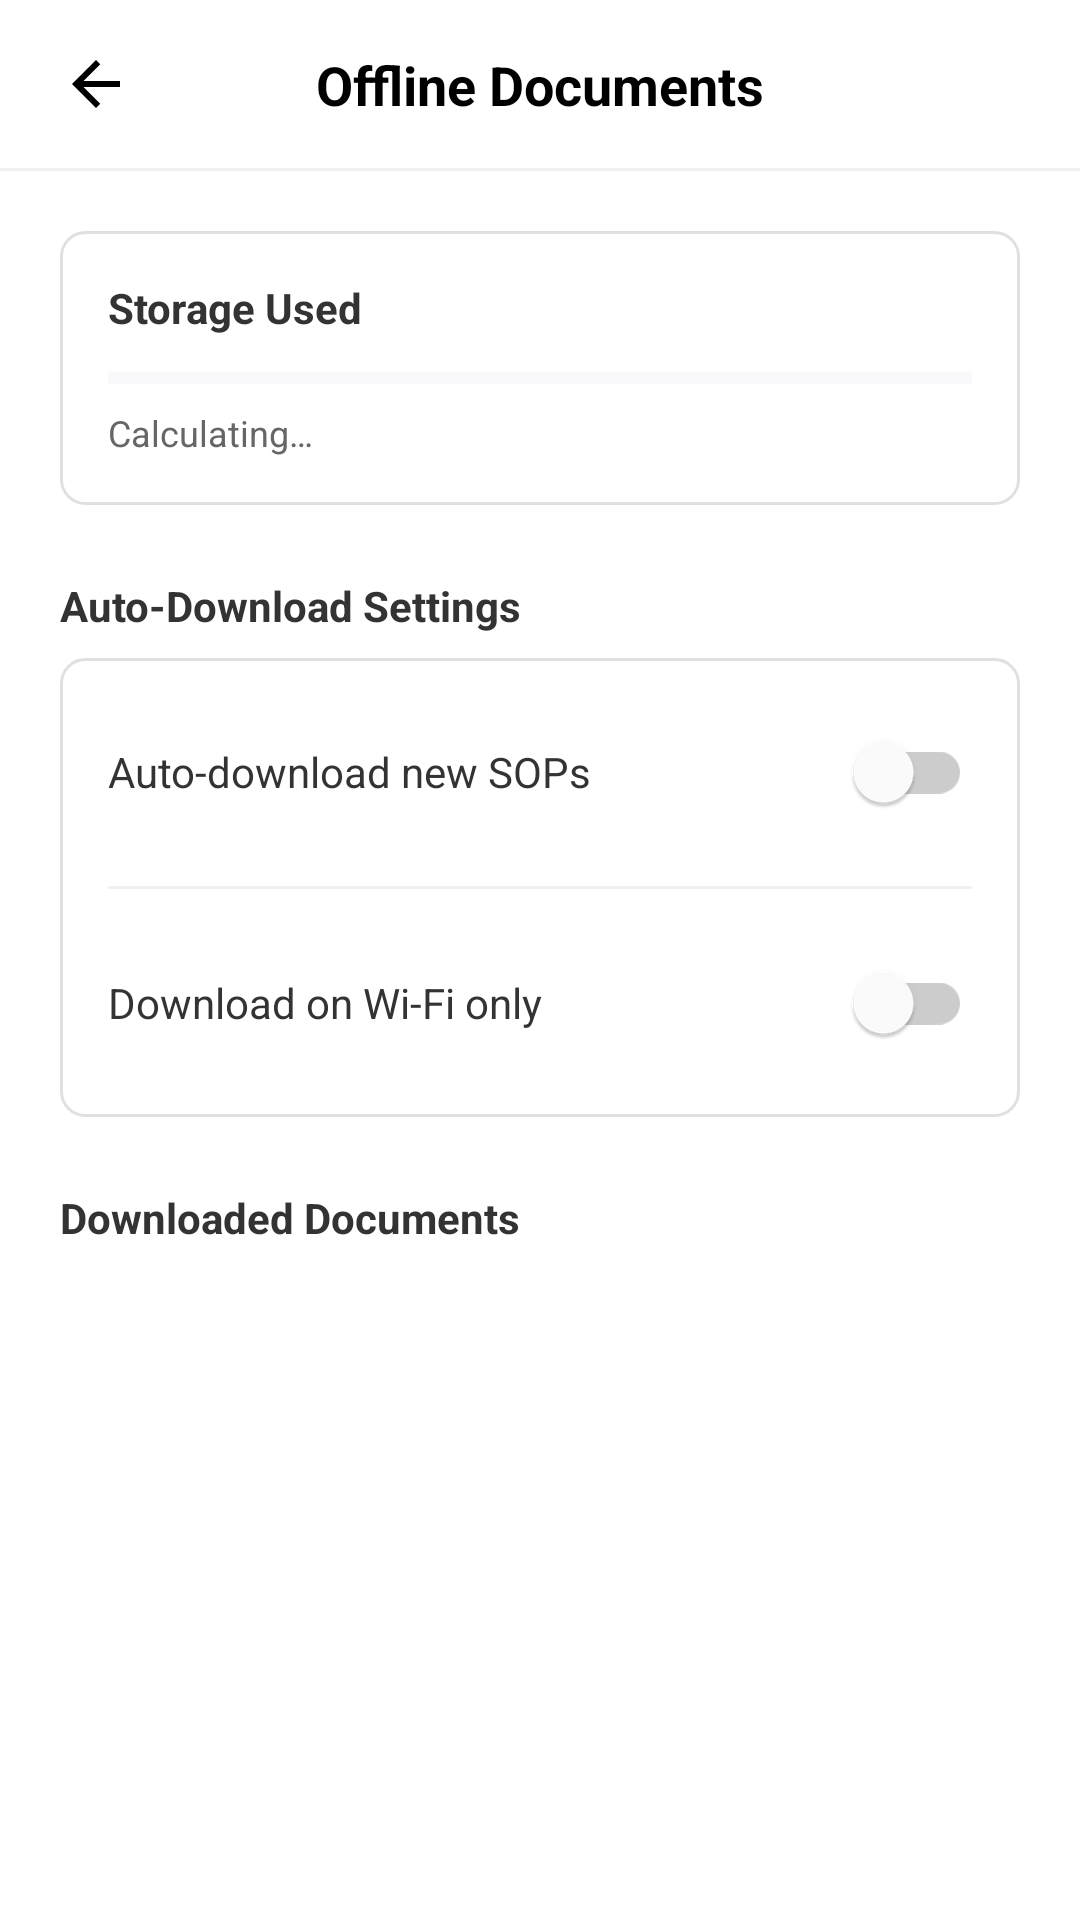

Icon bounding boxes for this 1080x1920 phone screenshot, format (x1, y1, x2, y2):
back: (72, 60, 120, 108)
